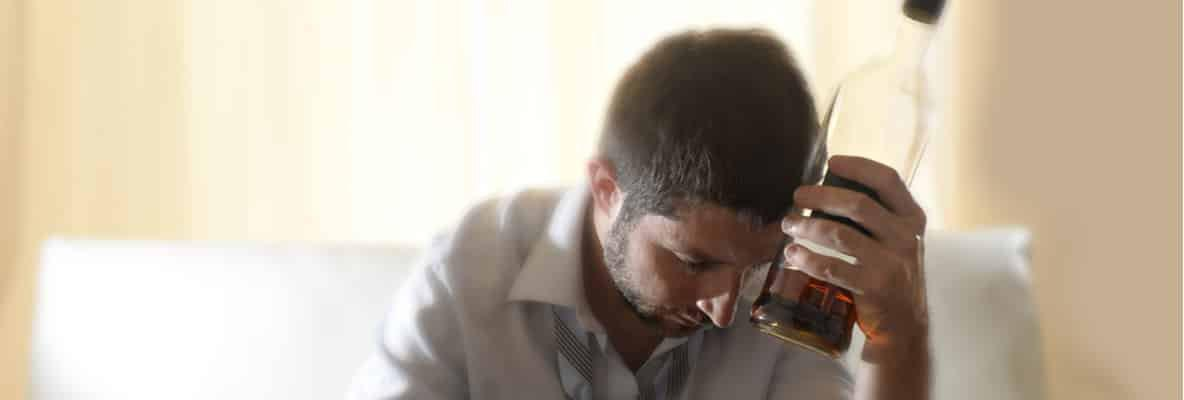Drunk: (610, 149, 774, 354)
